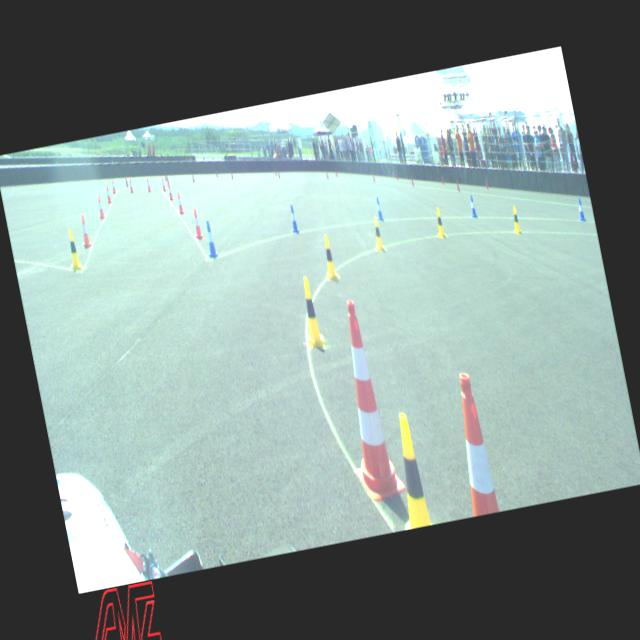blue_cone: (203, 220, 218, 258), (288, 204, 299, 233), (576, 198, 586, 222), (374, 197, 384, 221), (468, 196, 478, 218)
large_orange_cone: (324, 297, 406, 503), (447, 372, 499, 516)
orange_cone: (77, 214, 92, 248), (190, 208, 203, 238), (96, 196, 106, 219), (176, 192, 184, 215), (105, 185, 112, 203), (167, 183, 174, 200), (110, 178, 116, 194), (128, 178, 134, 193), (146, 178, 152, 192), (162, 178, 166, 192)
unknown_cone: (456, 180, 460, 192), (484, 178, 488, 190), (334, 168, 338, 177), (372, 173, 376, 182), (167, 176, 170, 187), (411, 176, 414, 187), (125, 177, 128, 187), (165, 172, 168, 182), (326, 170, 329, 180), (441, 175, 444, 185), (192, 174, 195, 183), (231, 171, 234, 180), (216, 169, 218, 178), (278, 170, 280, 178), (396, 172, 398, 180), (275, 169, 277, 176)
yellow_cone: (384, 412, 432, 530), (296, 277, 326, 351), (319, 234, 338, 280), (64, 228, 82, 270), (370, 216, 384, 251), (434, 208, 446, 238), (511, 206, 522, 234)
